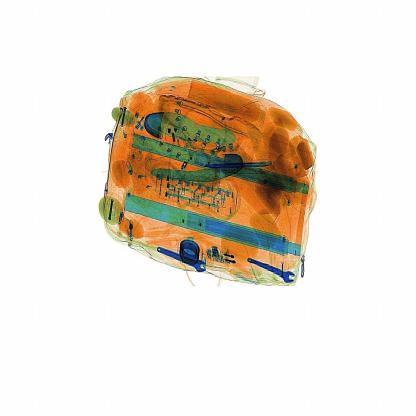pliers: (201, 154, 285, 176)
